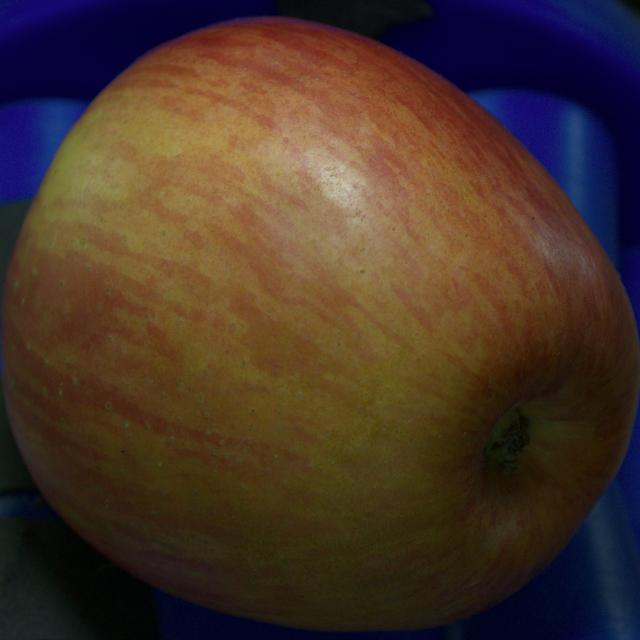apple: (2, 18, 639, 631)
